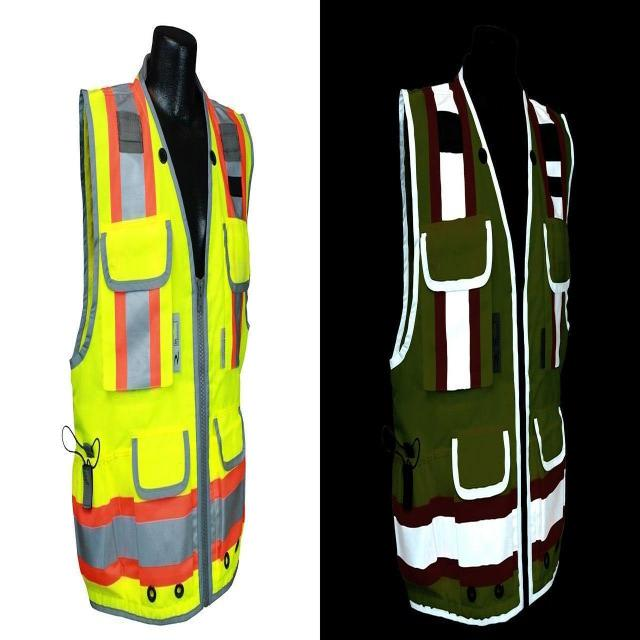Vest: (71, 60, 253, 625)
